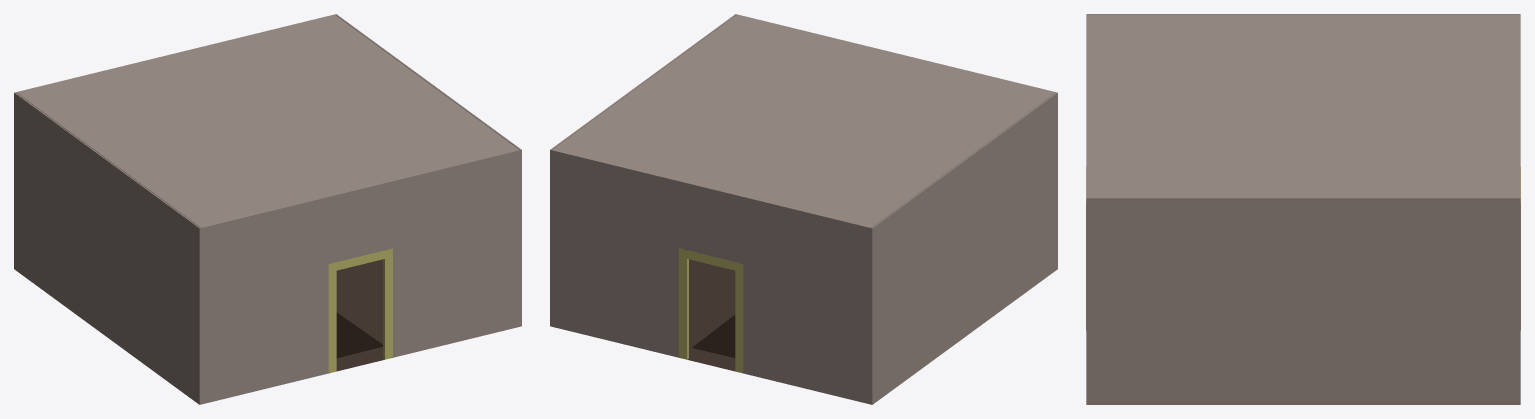
The model's file is Room22_Gallery.fbx.
3 renders of one model, left to right at view 1: azimuth 30°, elevation 25°; view 2: azimuth 150°, elevation 25°; view 3: azimuth 270°, elevation 25°, orthographic. The views are drawn at different scales.
Parts seen in each view (by area): view 1: Roof, WallSlicedPosZ, WallPosX, Floor, DoorFramePosZ, pPlane8, WallNegX; view 2: Roof, WallSlicedNegZ, WallPosX, Floor, DoorFrameNegZ, pPlane8, WallNegX; view 3: WallNegX, Roof, WallPosX.
Boxes of the visible parts, x1,y1,x2,y2 form: Roof: [17, 15, 518, 227]; WallSlicedPosZ: [199, 149, 521, 404]; WallPosX: [14, 92, 201, 404]; Floor: [329, 259, 392, 373]; DoorFramePosZ: [328, 248, 392, 372]; pPlane8: [336, 312, 382, 358]; WallNegX: [336, 14, 521, 326]; Roof: [553, 15, 1054, 227]; WallSlicedNegZ: [550, 149, 871, 404]; WallPosX: [870, 92, 1057, 404]; Floor: [679, 259, 742, 373]; DoorFrameNegZ: [679, 248, 743, 372]; pPlane8: [692, 315, 735, 357]; WallNegX: [550, 14, 735, 326]; WallNegX: [1086, 197, 1520, 404]; Roof: [1088, 15, 1518, 197]; WallPosX: [1086, 14, 1520, 14].
Size of the model in its own units: 802 by 420 by 800.
